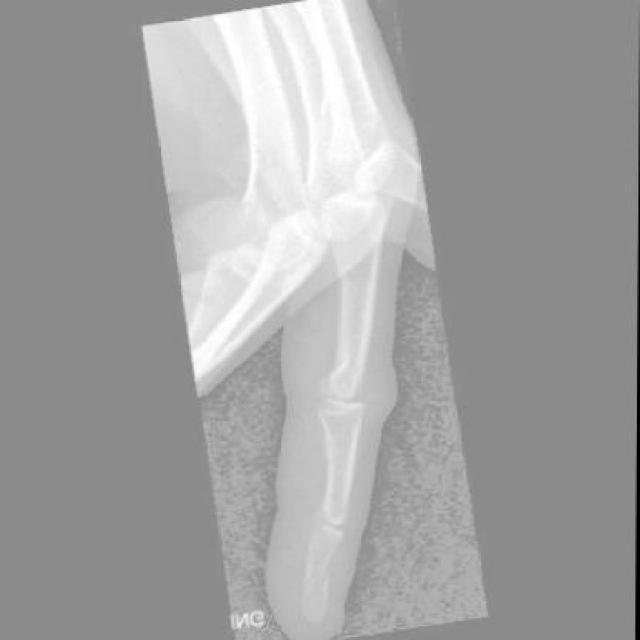Fracture: (297, 562, 339, 601)
